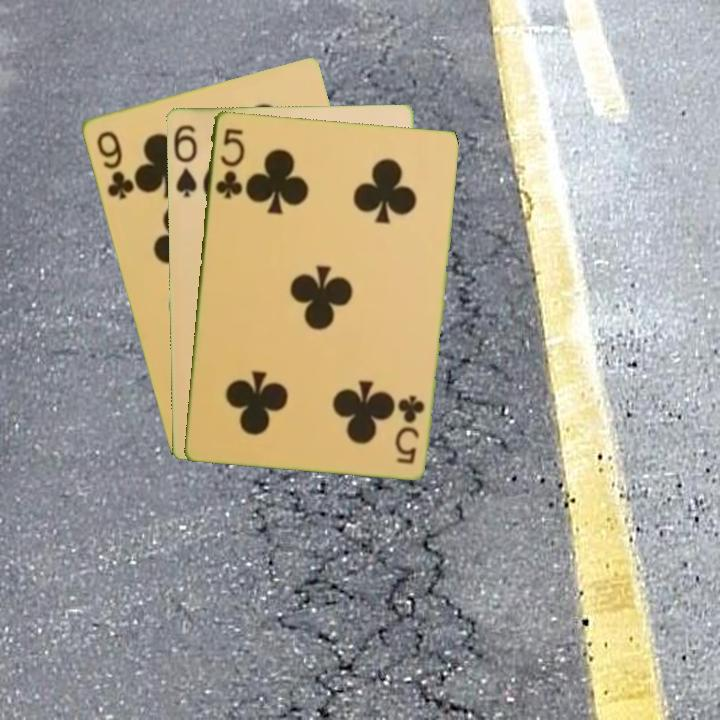5c: (211, 124, 247, 202), (393, 391, 427, 466)
6s: (169, 121, 200, 199)
9c: (92, 127, 136, 202)
